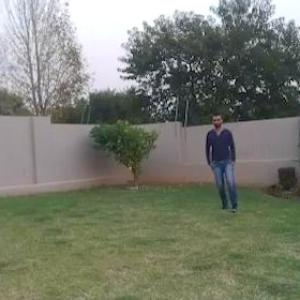follow: (206, 108, 239, 213)
